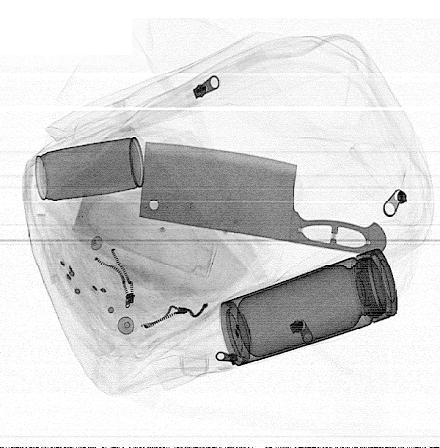Knife: (139, 142, 387, 256)
